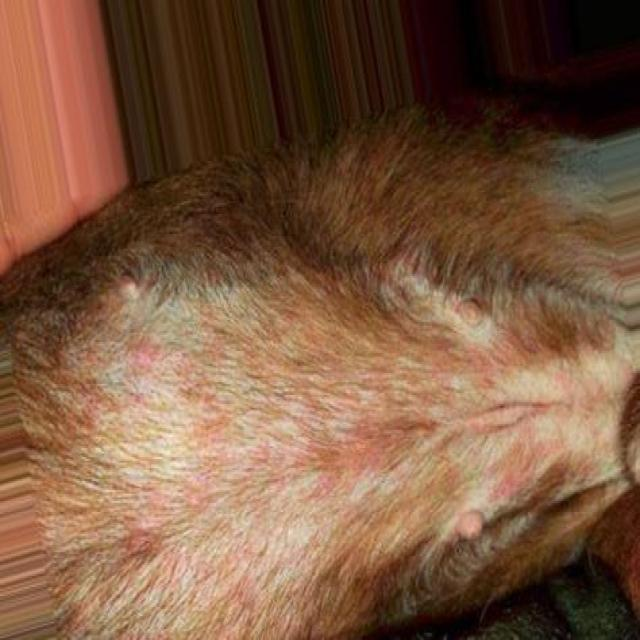di ung bo chet: (43, 285, 443, 640)
